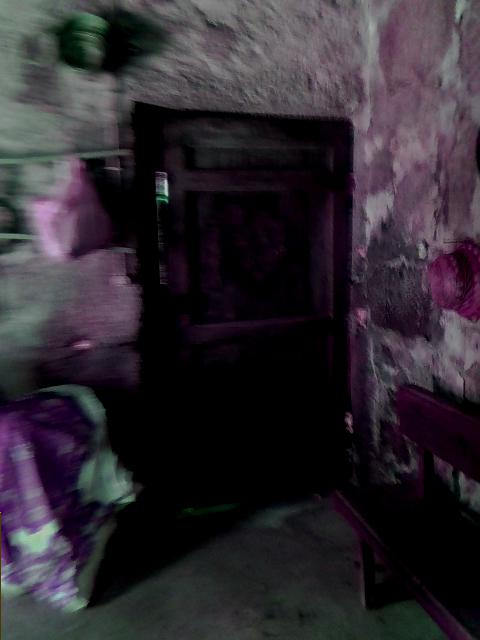closed_door: (129, 101, 352, 504)
